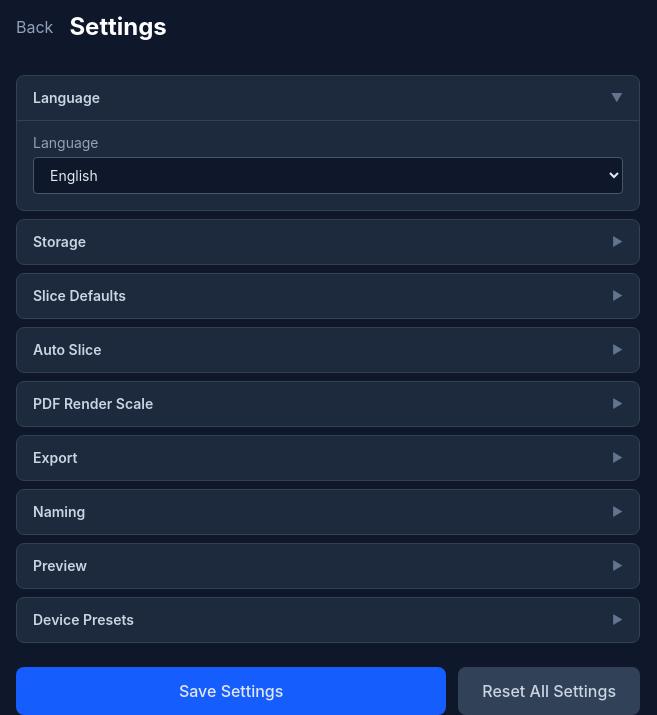
SettingsPage › renders JPG quality slider in export section
expect the heading "Export" is shown: met, box [33,448,78,468]
Click the button "Export ▶": (55, 458) [17,436,639,480]
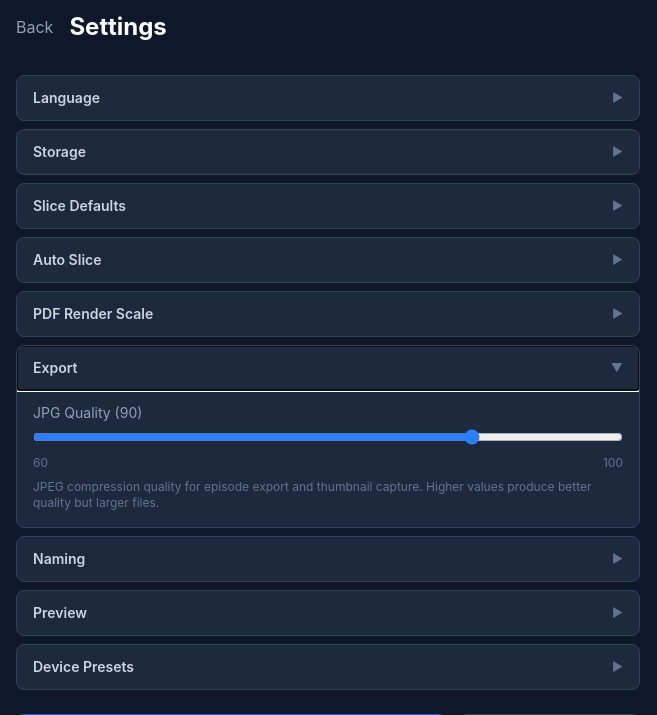
expect the text "JPG Quality (90)" is shown: met, box [33,404,142,421]
